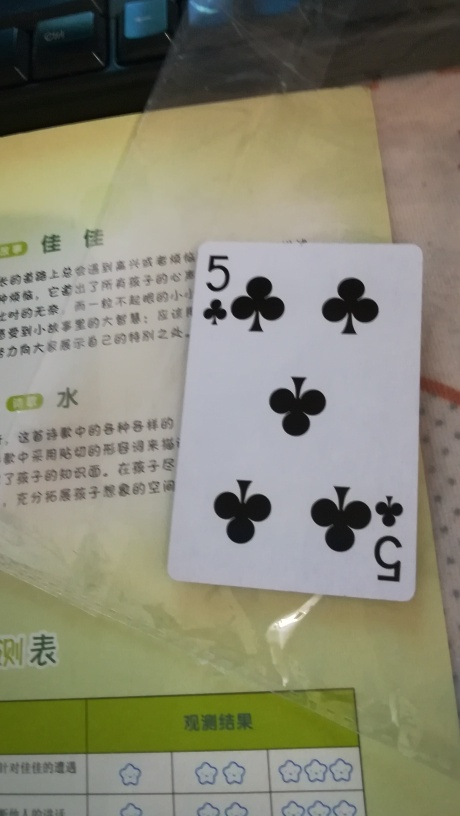mh 5: (164, 237, 418, 608)
